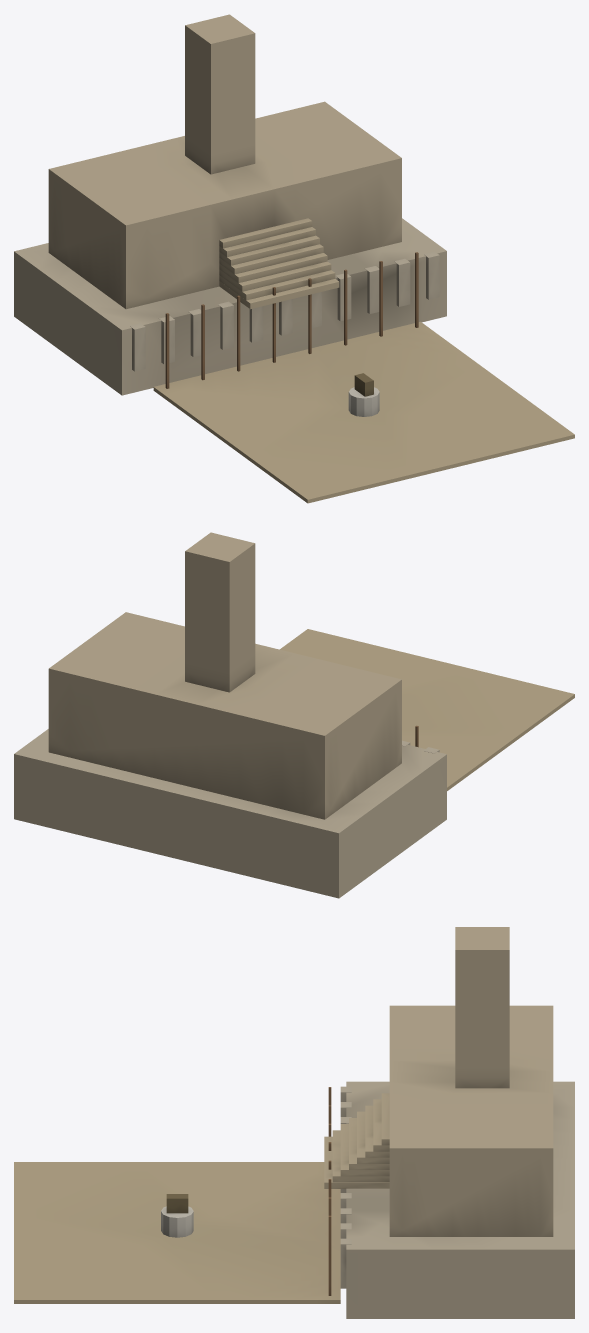
File: campidoglio.glb
The picture shows the model from 3 angles, top to bottom: view 1: azimuth 30°, elevation 25°; view 2: azimuth 150°, elevation 25°; view 3: azimuth 270°, elevation 25°; orthographic projection. The views are drawn at different scales.
Parts seen in each view (by area): view 1: p2_tower, p1_palazzo, p0_substructure; view 2: p1_palazzo, p0_substructure, p2_tower; view 3: p2_tower, p1_palazzo, p0_substructure.
Part boxes in pixels (<box>): p2_tower: <box>153,14,574,503</box>; p1_palazzo: <box>48,101,401,309</box>; p0_substructure: <box>14,218,446,395</box>; p1_palazzo: <box>48,612,401,819</box>; p0_substructure: <box>14,729,446,898</box>; p2_tower: <box>185,532,574,790</box>; p2_tower: <box>14,927,509,1303</box>; p1_palazzo: <box>324,1005,553,1236</box>; p0_substructure: <box>340,1081,574,1318</box>.
Size of the model in its own units: 73 by 60.04 by 103.
